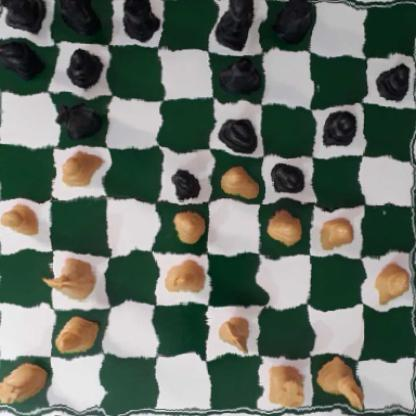black-bishop: (117, 0, 161, 44), (220, 54, 258, 98)
black-king: (209, 0, 259, 51)
black-knight: (46, 97, 101, 140), (49, 0, 106, 33)
black-pawn: (216, 113, 261, 155), (319, 104, 357, 152), (65, 47, 107, 89), (0, 41, 44, 80), (373, 60, 411, 101), (168, 161, 208, 199), (269, 161, 309, 198)
black-rook: (269, 0, 311, 43), (0, 0, 49, 32)
white-bishop: (56, 314, 103, 356), (167, 256, 207, 300)
white-king: (317, 356, 365, 411)
white-knight: (40, 256, 100, 299), (213, 313, 255, 354)
white-pawn: (60, 149, 103, 193), (370, 260, 413, 302), (216, 162, 260, 202), (315, 213, 357, 253), (3, 204, 44, 243), (169, 207, 206, 244), (266, 209, 303, 245)
white-rook: (0, 358, 48, 404), (265, 363, 307, 412)
